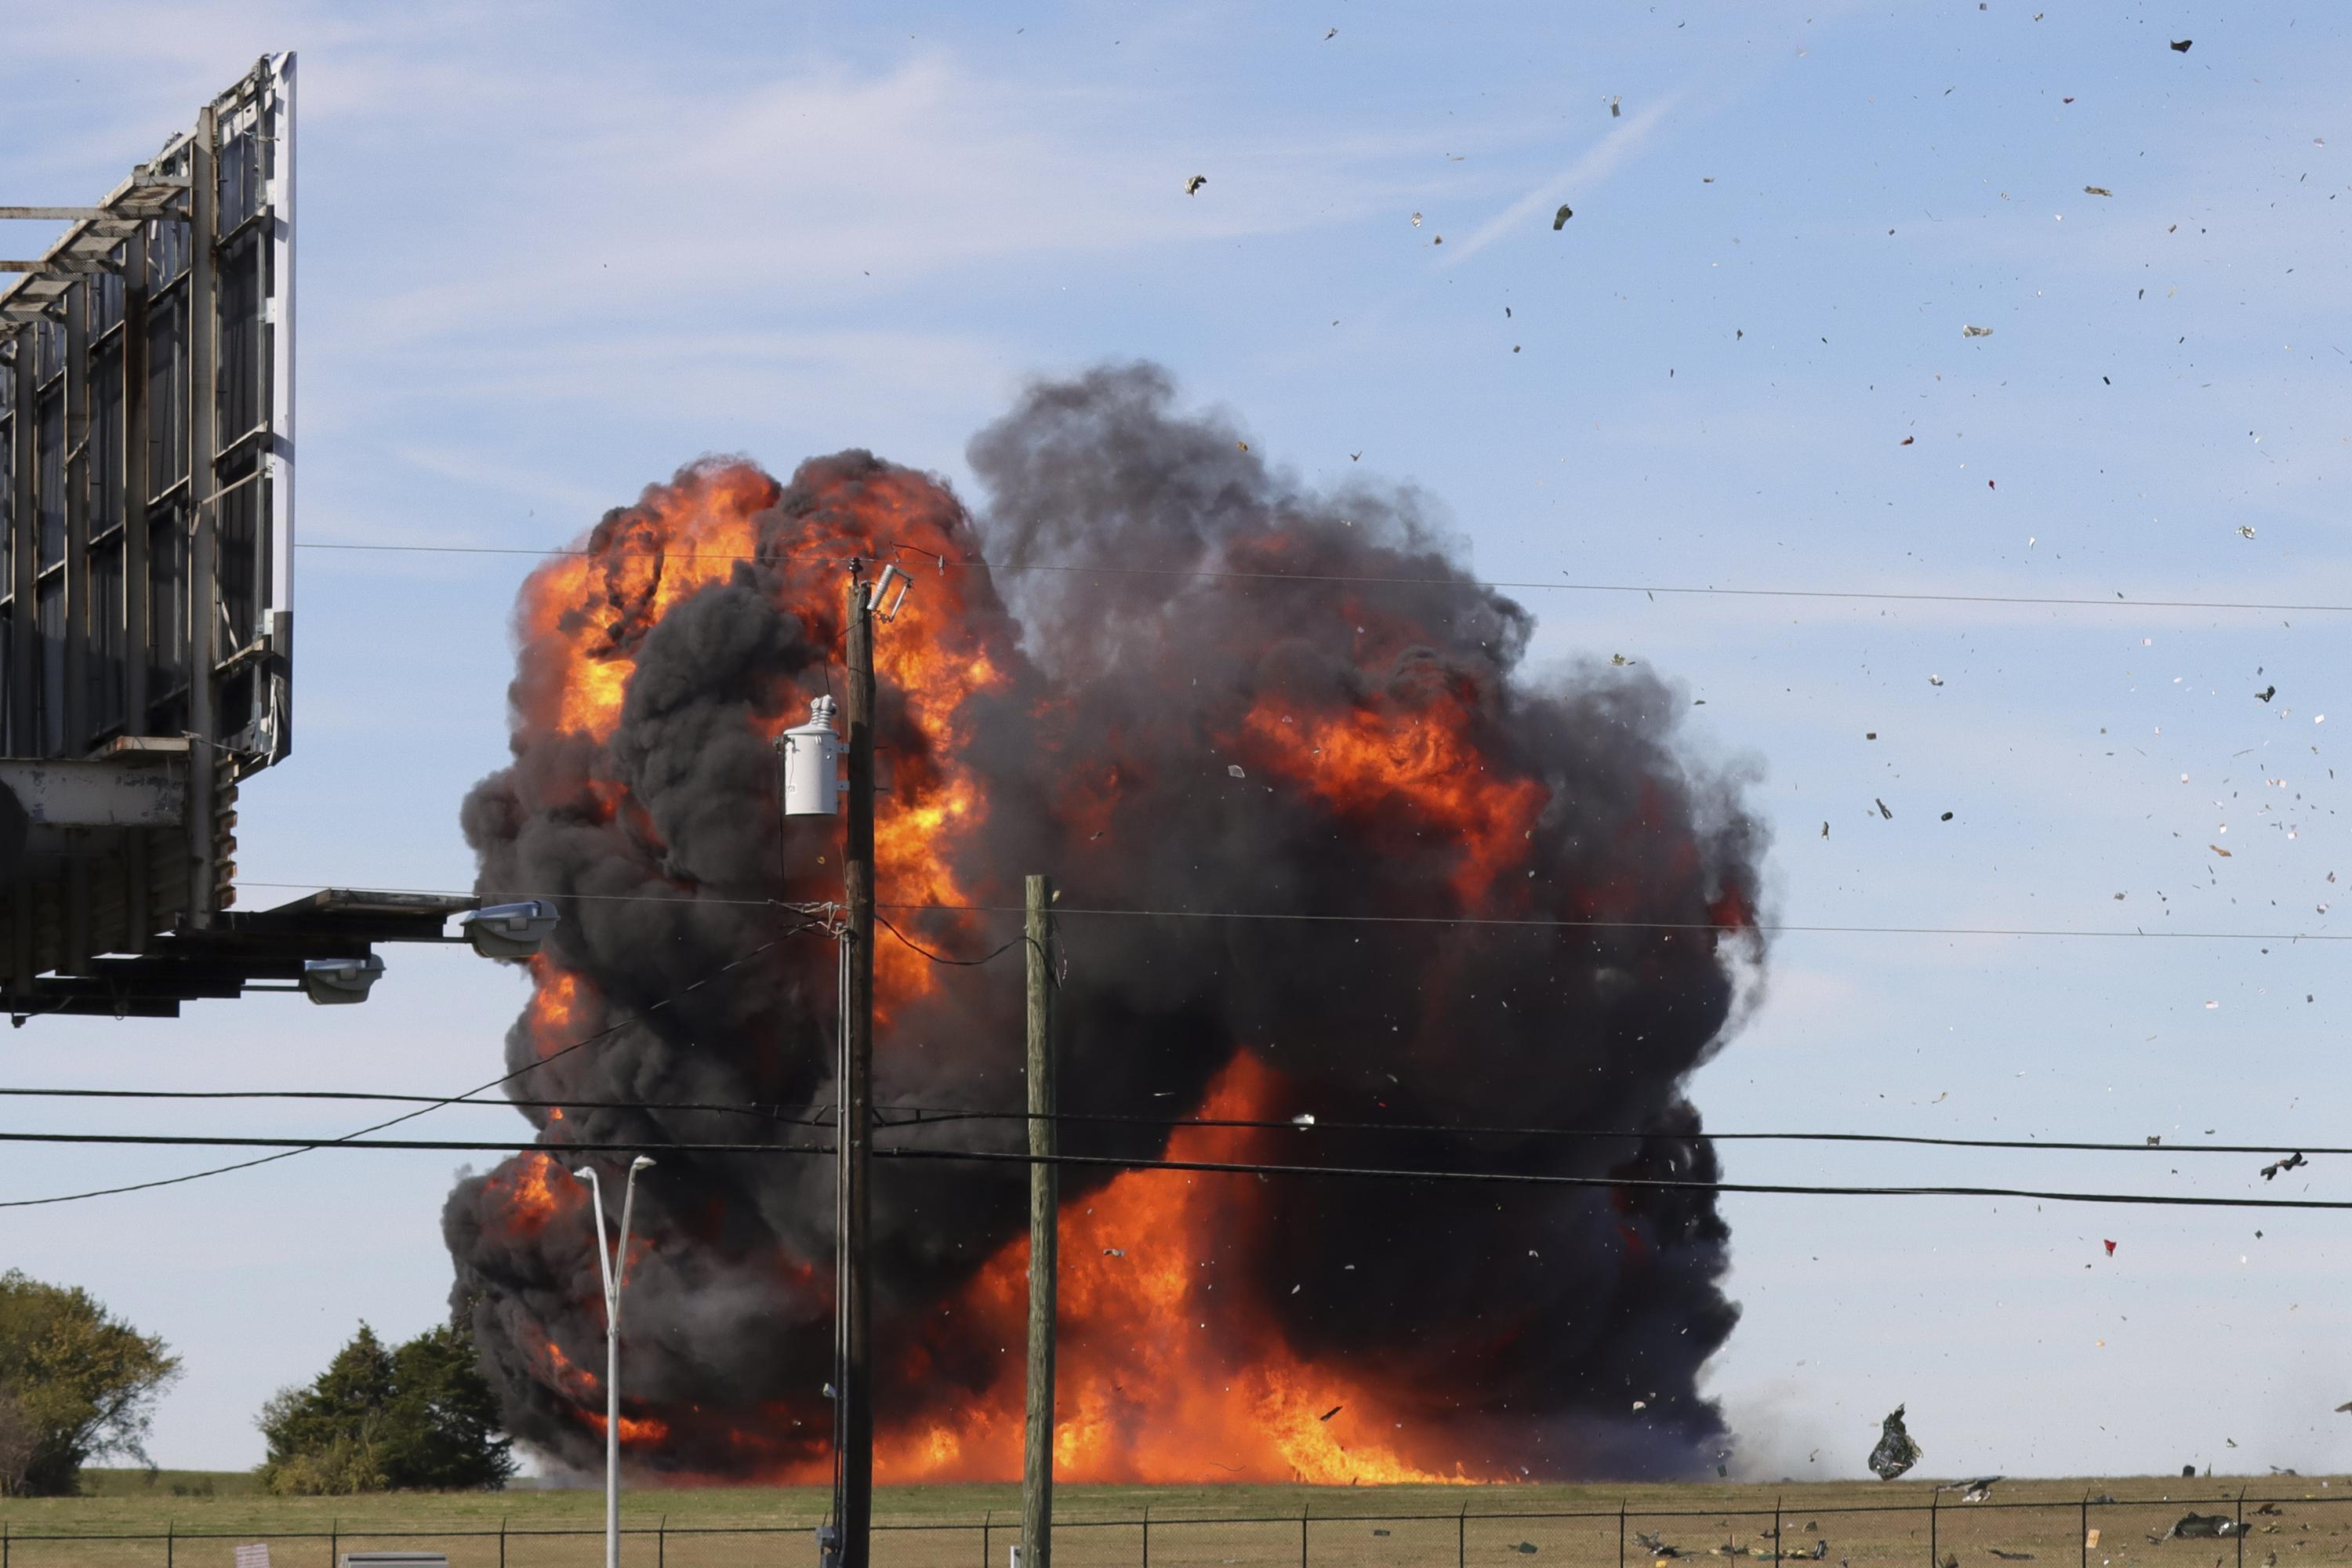fire: (478, 350, 1757, 1493)
